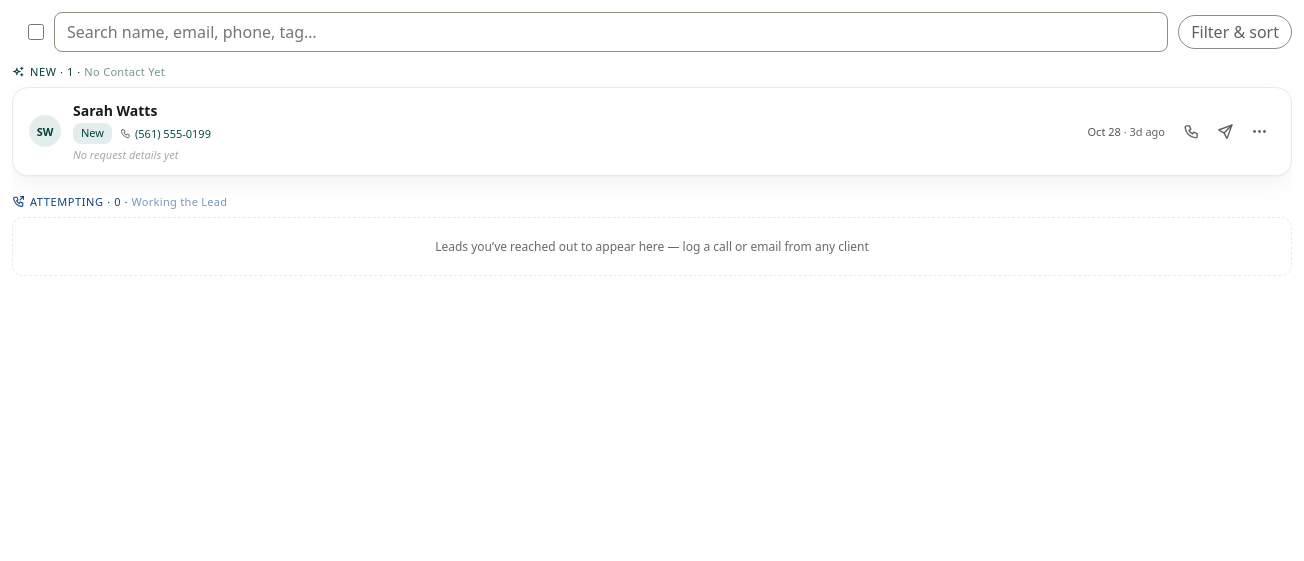
Test: the Closed menu item — gating (issue 204) › present on a normal owned row
The width and height of the screenshot is (1304, 561).
What coordinates should you click on to do the following:
click the button named "More"
I would click on:
 (1259, 131)
Its box is top-left (1243, 115), bottom-right (1275, 147).
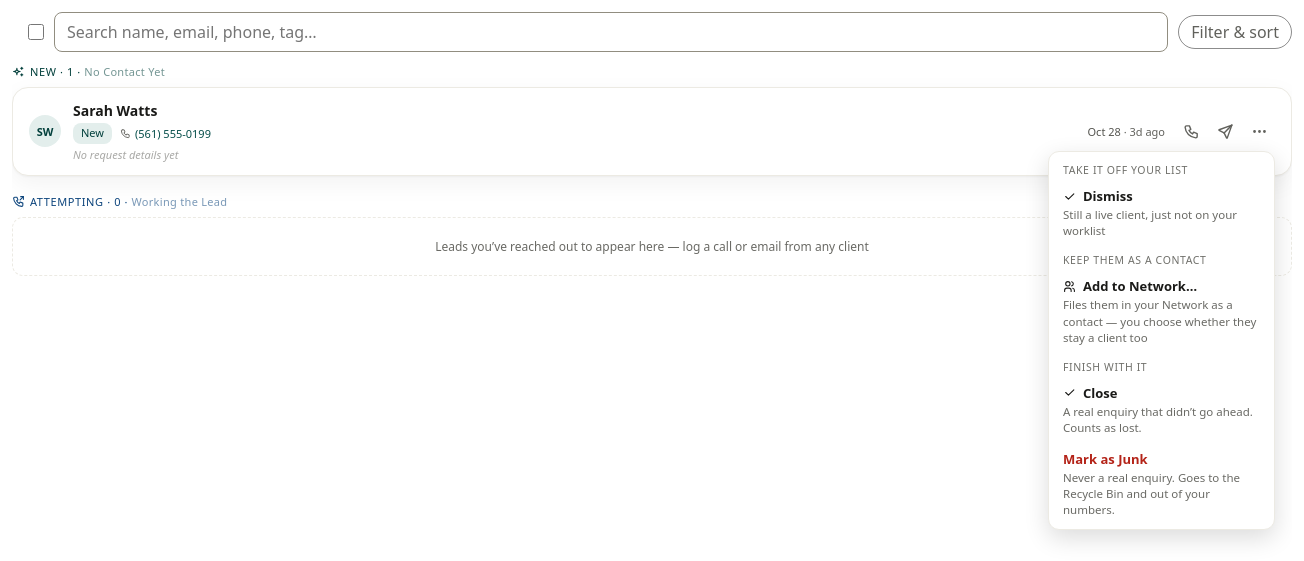
Result: the button with test id "menu-close" is shown at top-left (1053, 377), bottom-right (1270, 443)
